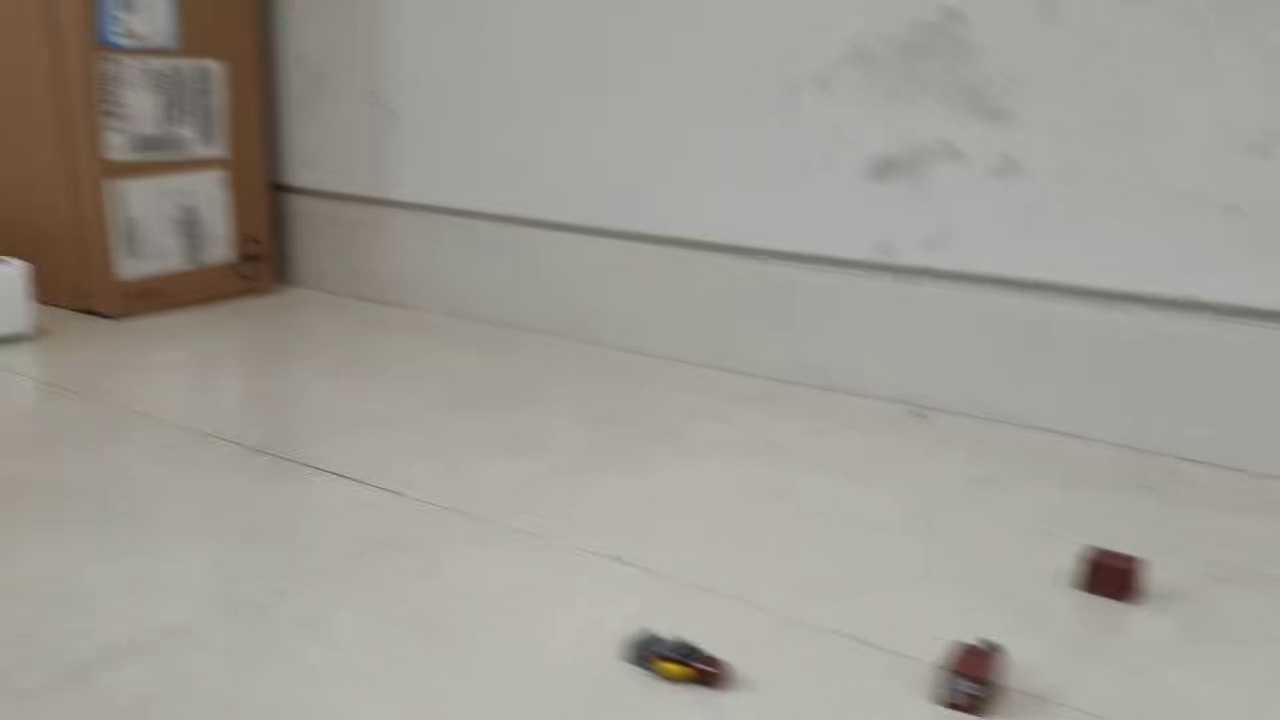box: (935, 632, 1013, 716), (1061, 546, 1150, 603)
people: (609, 629, 730, 690)
